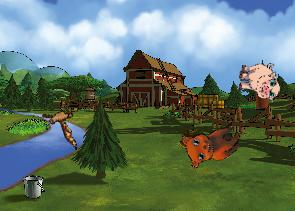bear: (176, 110, 246, 175)
eagle: (34, 97, 92, 150)
pig: (236, 60, 281, 102)
